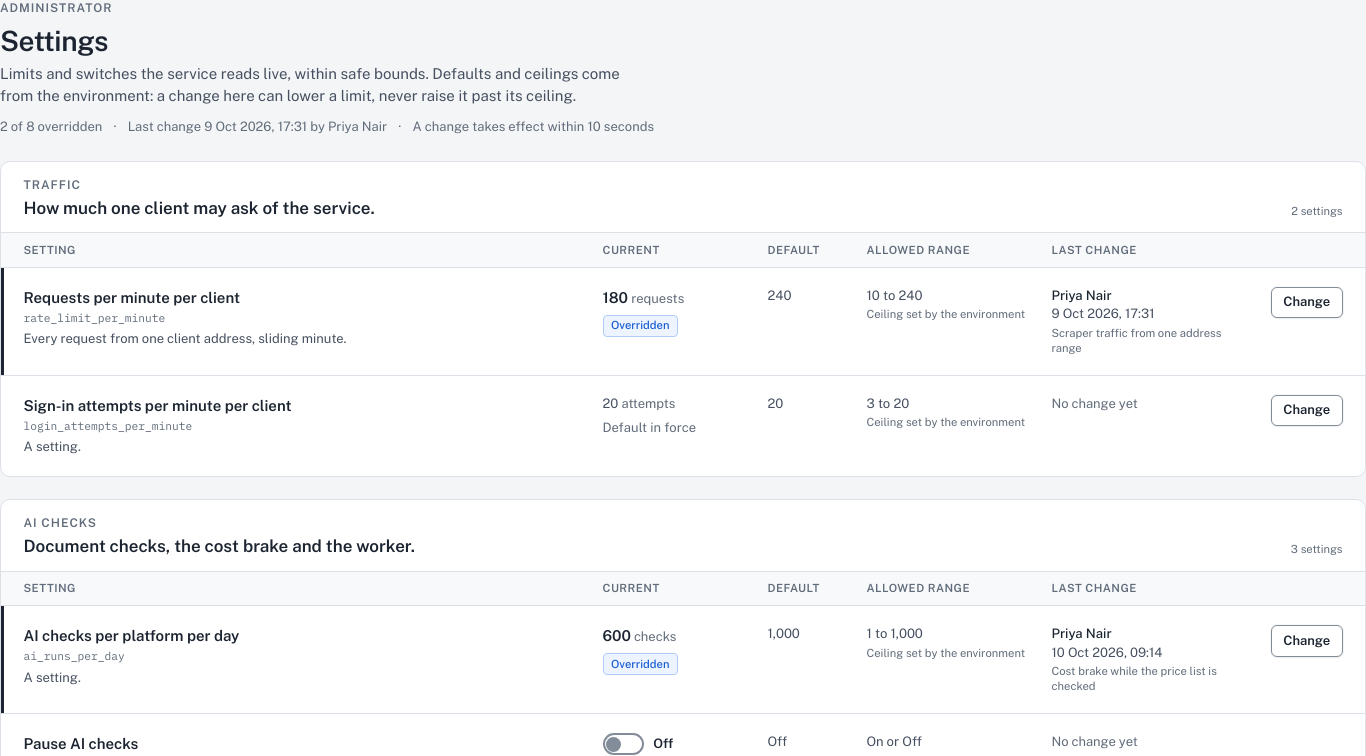
Test: admin settings page (US-101) › the change dialog › puts a wrong password under the password field and keeps everything typed
Click the button with aria-label "Change Requests per minute per client". click: (1307, 302)
box: [1271,287,1342,318]
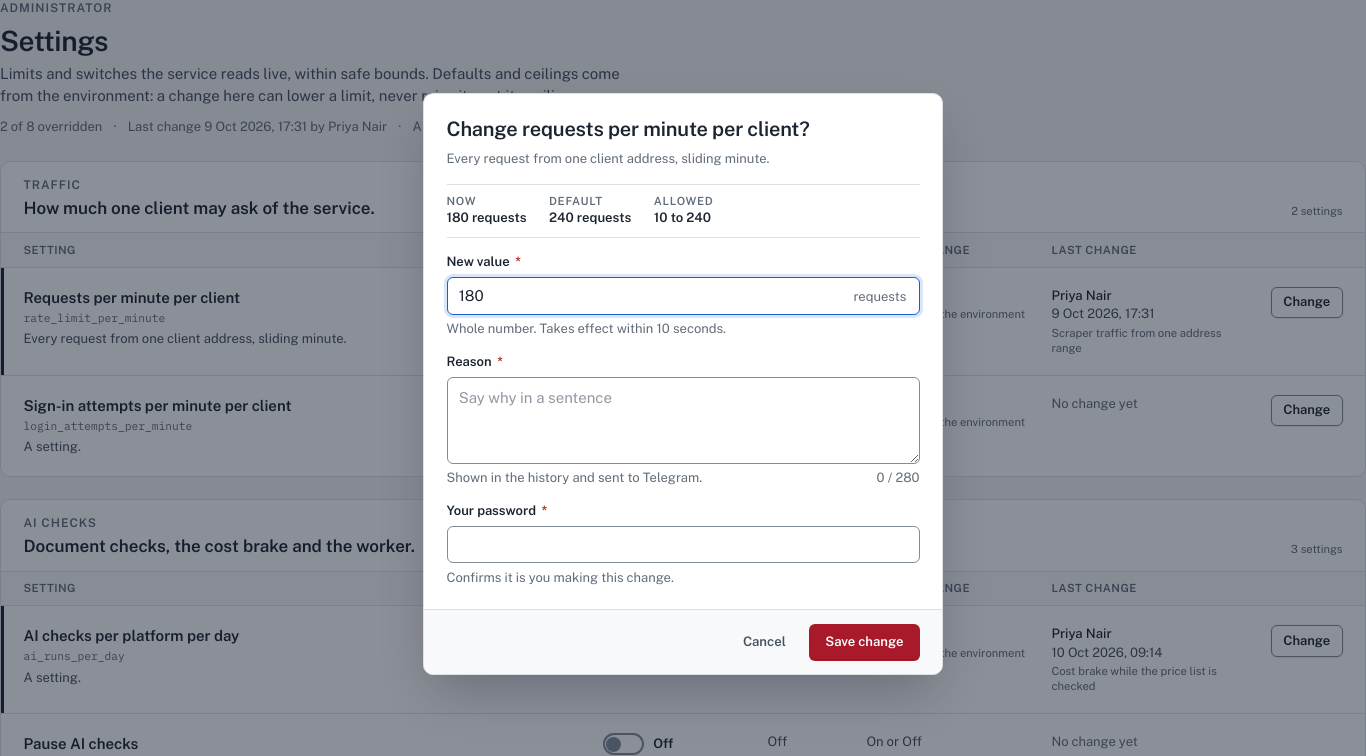
Replace the text in the field labelled "New value *" with "200". click: (683, 296)
box: [446,277,920,314]
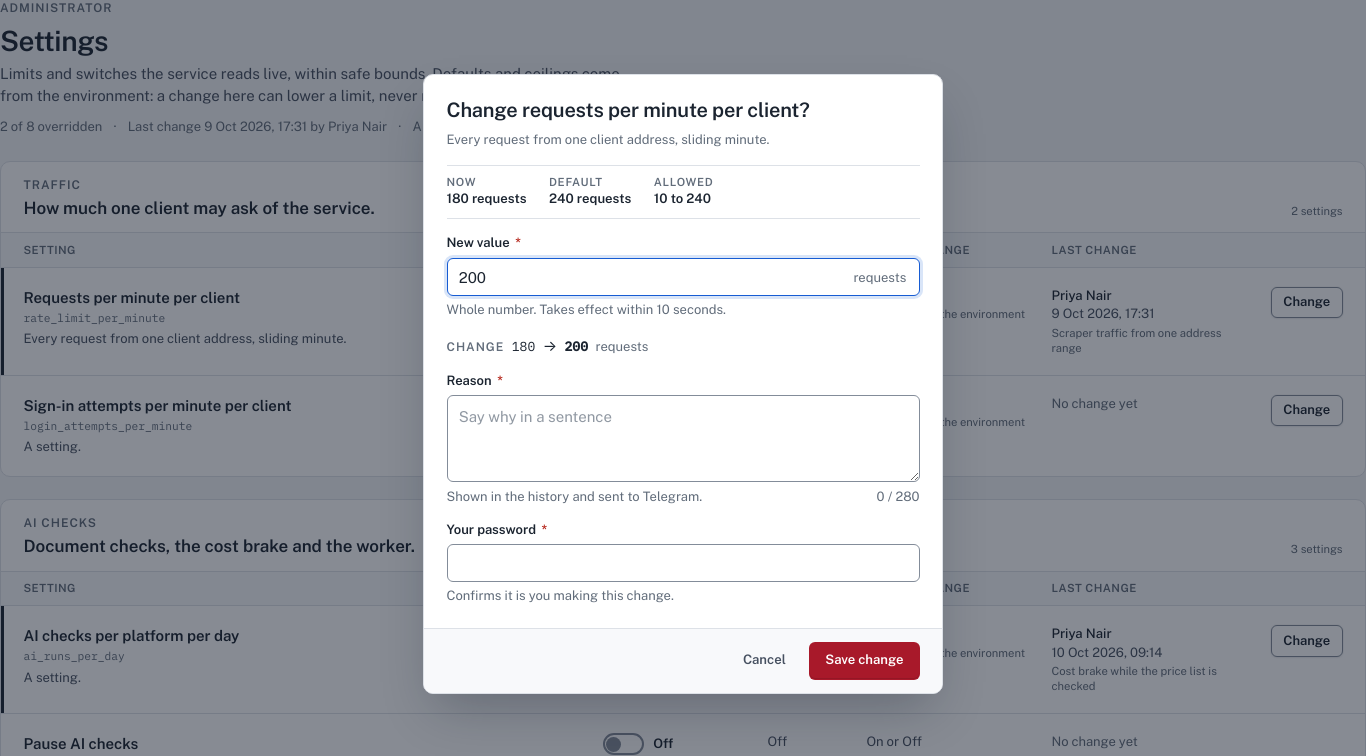
Type "Load test finished" into the text box labelled "Reason *". click: (683, 439)
box: [446,395,920,482]
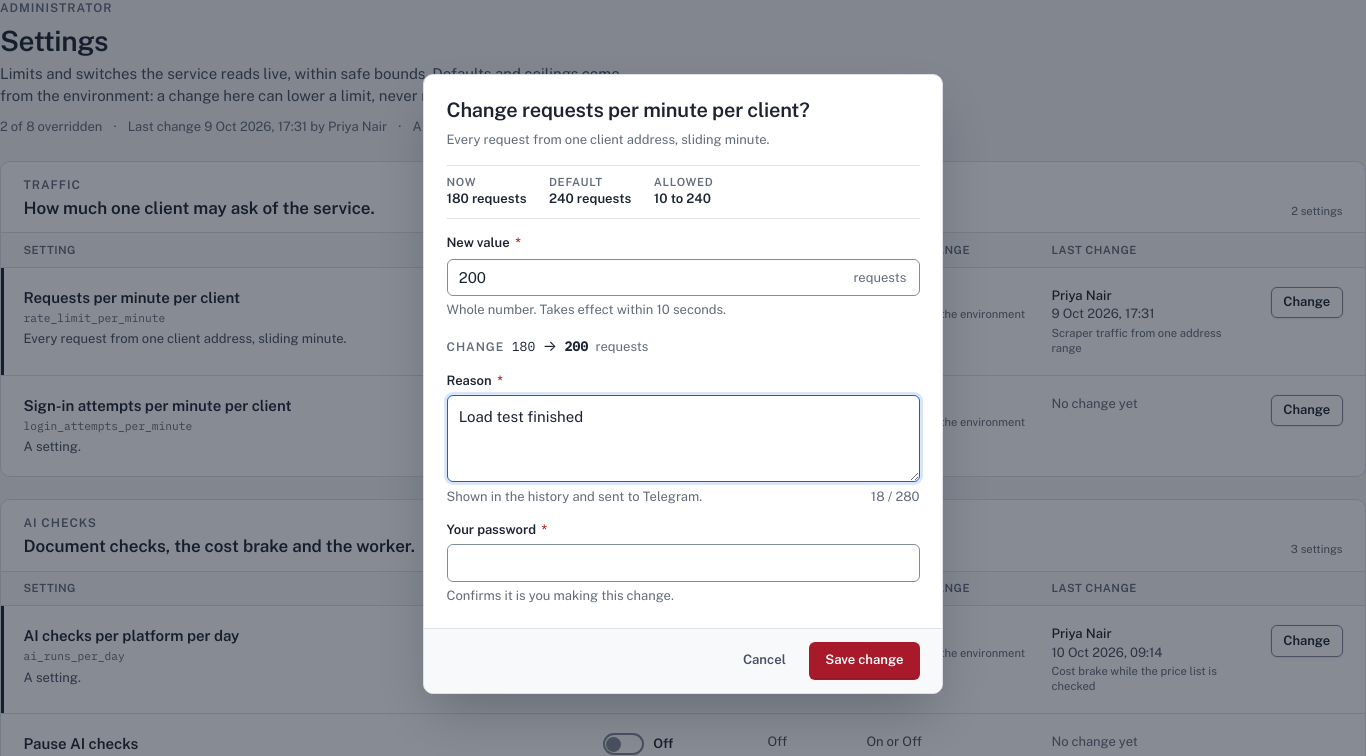
Type "nope" into the password field labelled "Your password *". click: (683, 563)
box: [446,544,920,582]
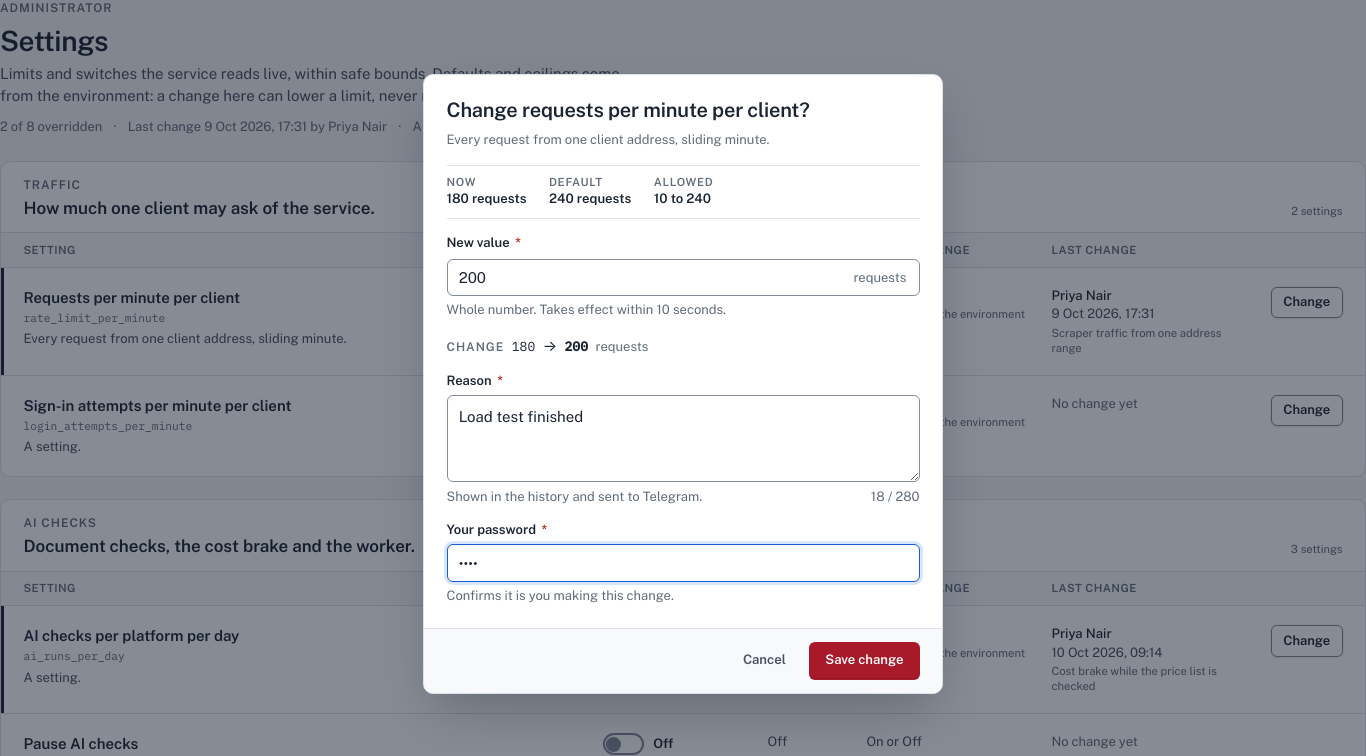
Click the button "Save change". click: (864, 661)
box: [809,642,920,680]
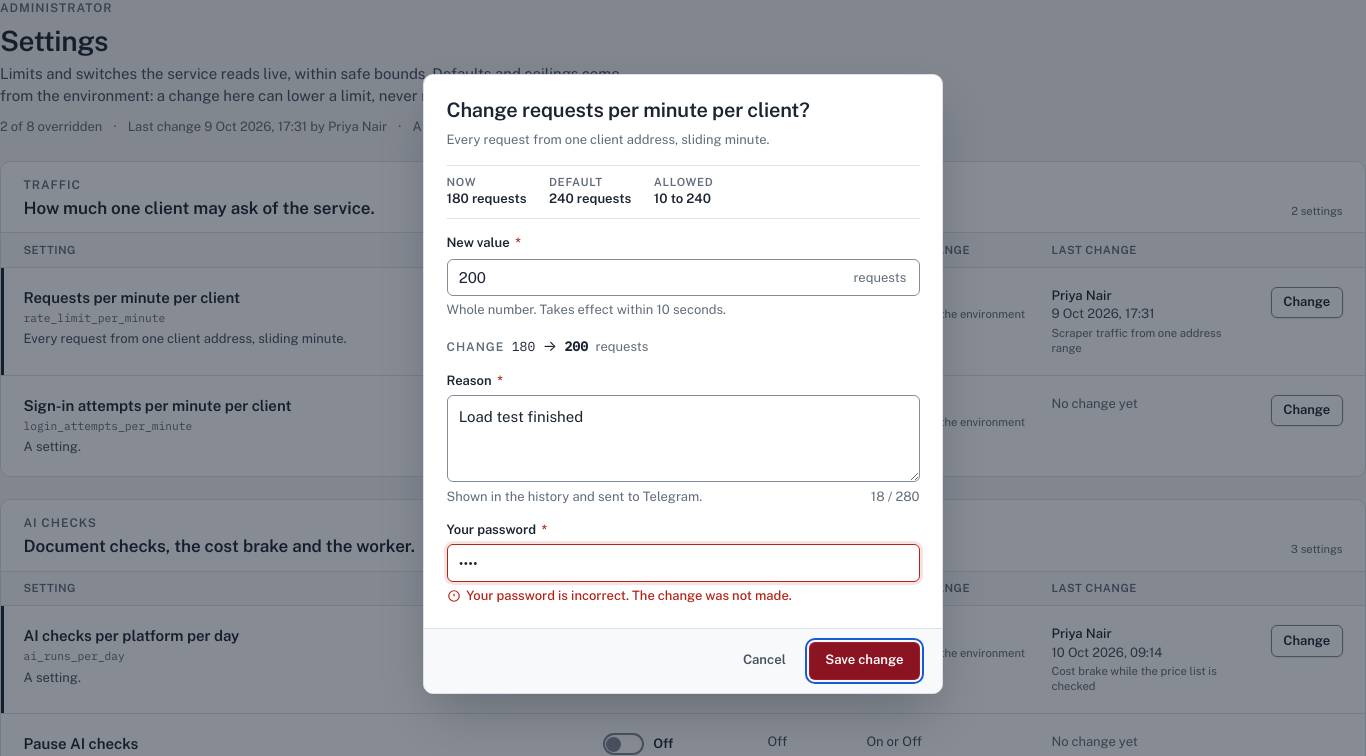
Expected: the text "Your password is incorrect. The change was not made." is shown, [466,587,792,605]
